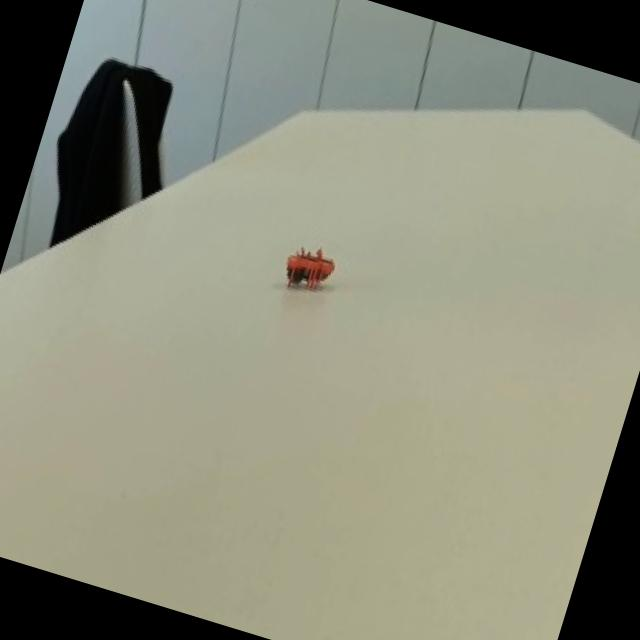7_NanoBug_Naranja: (249, 208, 352, 324)
